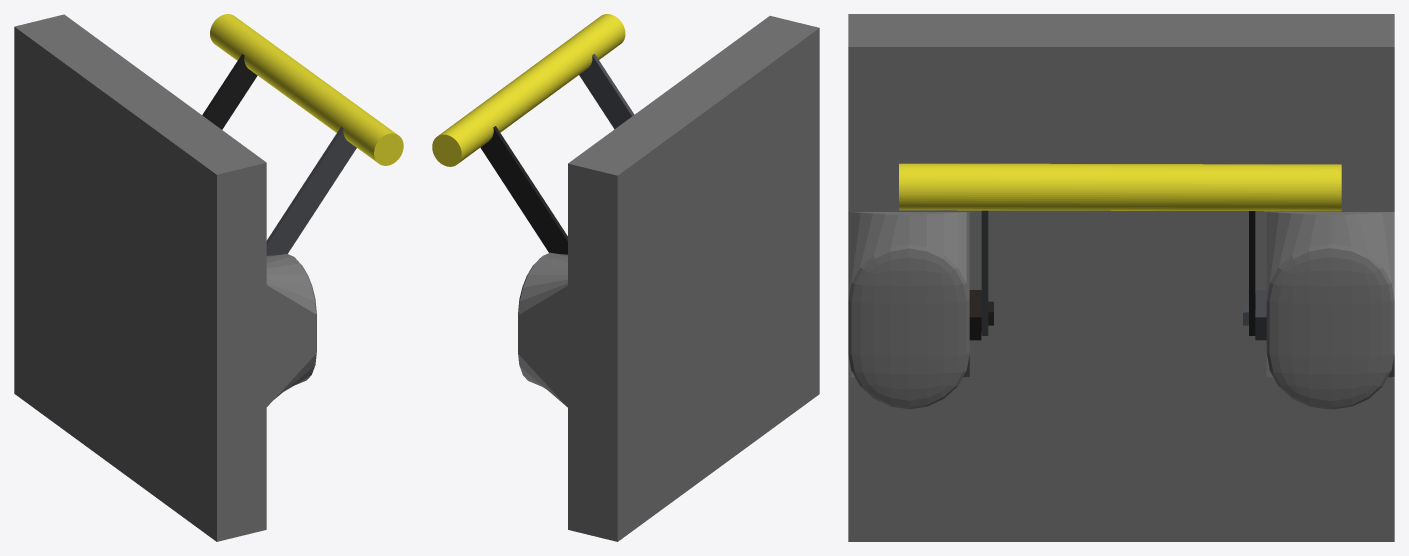
Rendered from lever.fbx.
3 renders of one model, left to right at view 1: azimuth 30°, elevation 25°; view 2: azimuth 150°, elevation 25°; view 3: azimuth 270°, elevation 25°, orthographic. The views are drawn at different scales.
Visible parts, largest first — view 1: Cube.001, Cylinder.004, Cube.003, Cube.002; view 2: Cube.001, Cylinder.004, Cube.002, Cube.003; view 3: Cube.001, Cylinder.004, Cube.003, Cube.002, Cylinder.001.
Part boxes in pixels (x1,y1,x2,y2): Cube.001: (14, 14, 316, 541); Cylinder.004: (210, 14, 403, 165); Cube.003: (266, 126, 356, 255); Cube.002: (202, 54, 257, 129); Cube.001: (518, 16, 819, 541); Cylinder.004: (432, 14, 625, 166); Cube.002: (480, 126, 567, 254); Cube.003: (579, 53, 634, 129); Cube.001: (848, 14, 1394, 541); Cylinder.004: (899, 163, 1341, 211); Cube.003: (981, 210, 988, 335); Cube.002: (1249, 211, 1255, 335); Cylinder.001: (969, 290, 981, 340).
Size of the model in its own units: 41.98 by 71.61 by 71.61.
